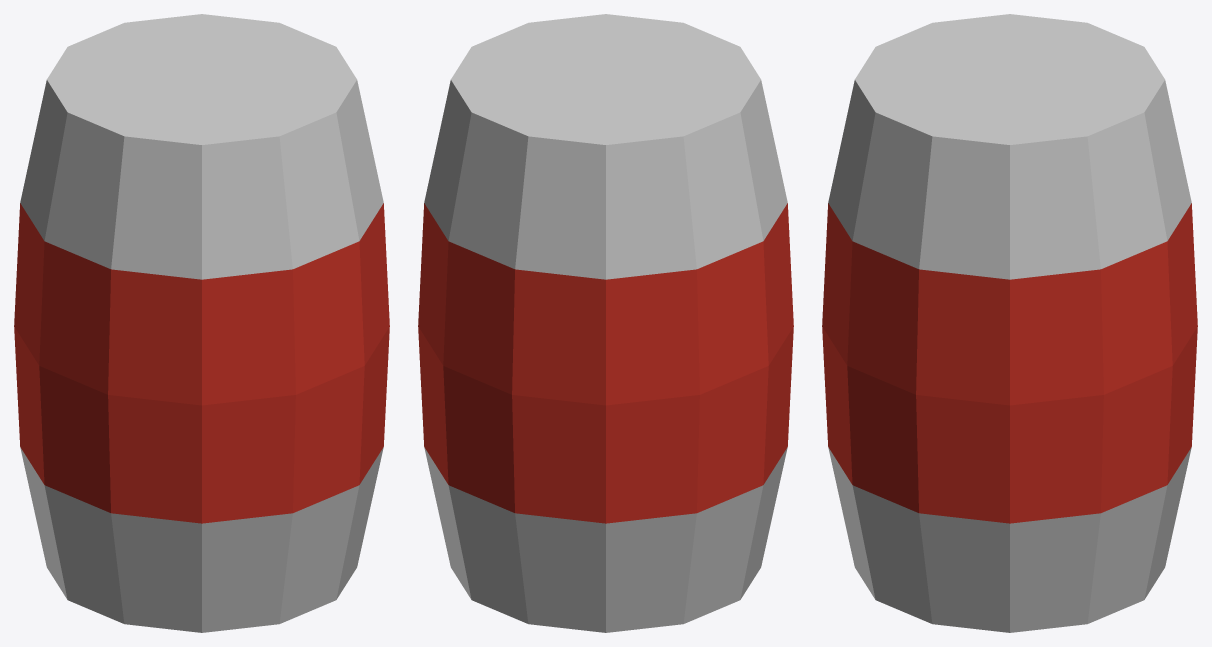
The model's file is barrel.fbx.
The picture shows the model from 3 angles, left to right: view 1: azimuth 30°, elevation 25°; view 2: azimuth 150°, elevation 25°; view 3: azimuth 270°, elevation 25°; orthographic projection.
Visible parts, largest first — view 1: Cylinder; view 2: Cylinder; view 3: Cylinder.
Boxes of the visible parts, x1,y1,x2,y2 form: Cylinder: (14, 14, 389, 632); Cylinder: (418, 14, 793, 632); Cylinder: (822, 14, 1197, 632).
Bounding box in the file's own units: 626 × 897 × 626.
